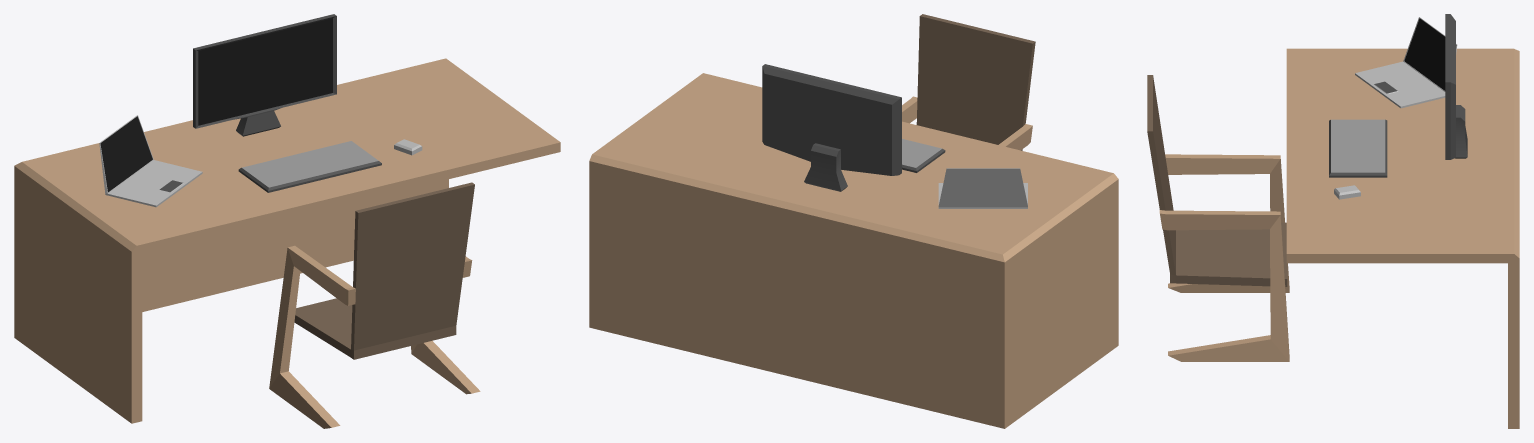
File: basic_assets.fbx
3 renders of one model, left to right at view 1: azimuth 30°, elevation 25°; view 2: azimuth 150°, elevation 25°; view 3: azimuth 270°, elevation 25°, orthographic. The views are drawn at different scales.
Visible parts, largest first — view 1: pCube7; view 2: pCube7; view 3: pCube7.
Boxes of the visible parts, box(x1,y1,x2,y2) form: pCube7: box(14, 14, 560, 428); pCube7: box(589, 14, 1118, 428); pCube7: box(1147, 14, 1519, 428).
Bounding box in the file's own units: 8.38 × 5.22 × 6.36.
